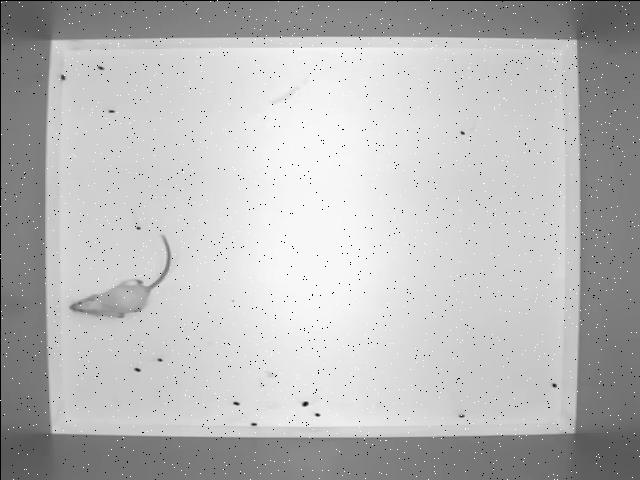Tikus: (61, 224, 173, 324)
